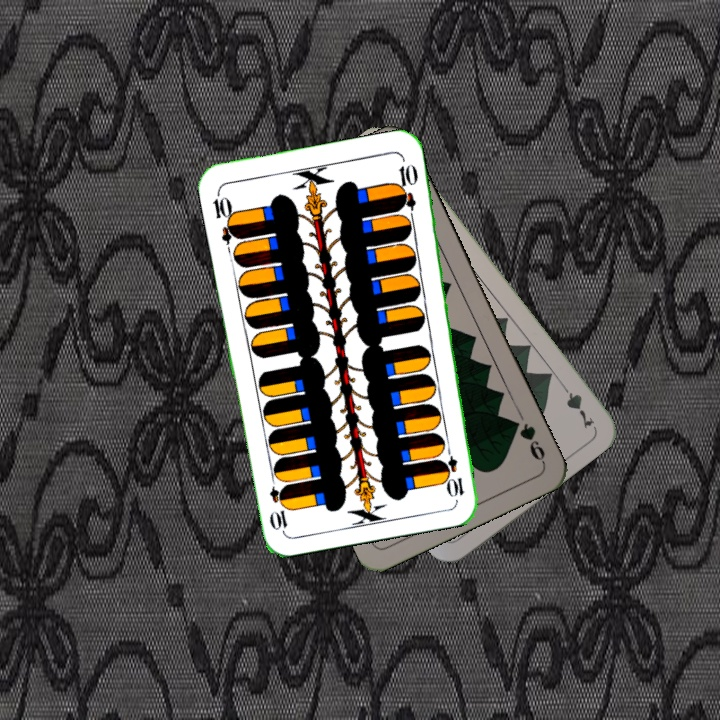E10: (208, 188, 242, 247), (441, 441, 467, 500)
G7: (556, 377, 596, 432)
G9: (506, 415, 548, 466)
